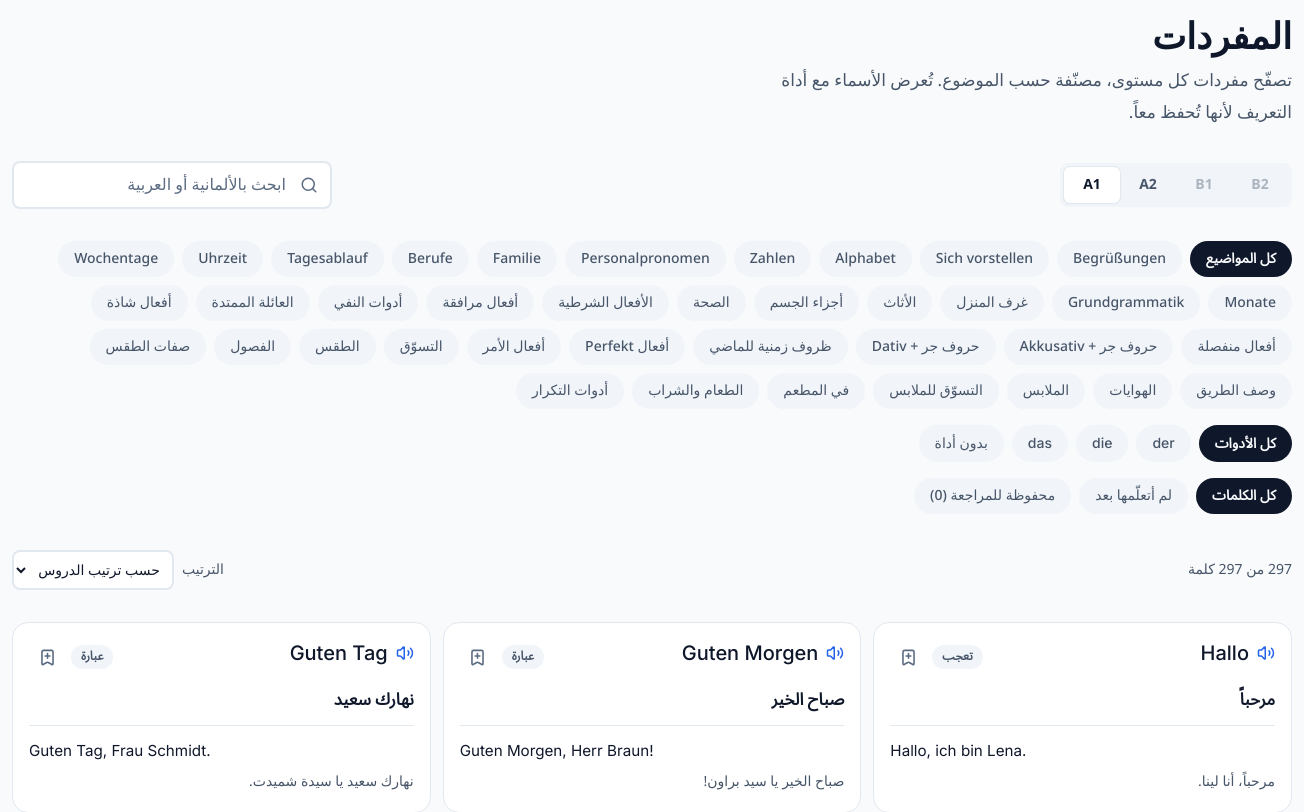
Test case: VocabularyPage › adds a word to spaced review from its card, and lists it under the saved filter
Step 1. Click the button named "أضف إلى المراجعة" → (908, 657), box top-left (890, 639), bottom-right (926, 675)
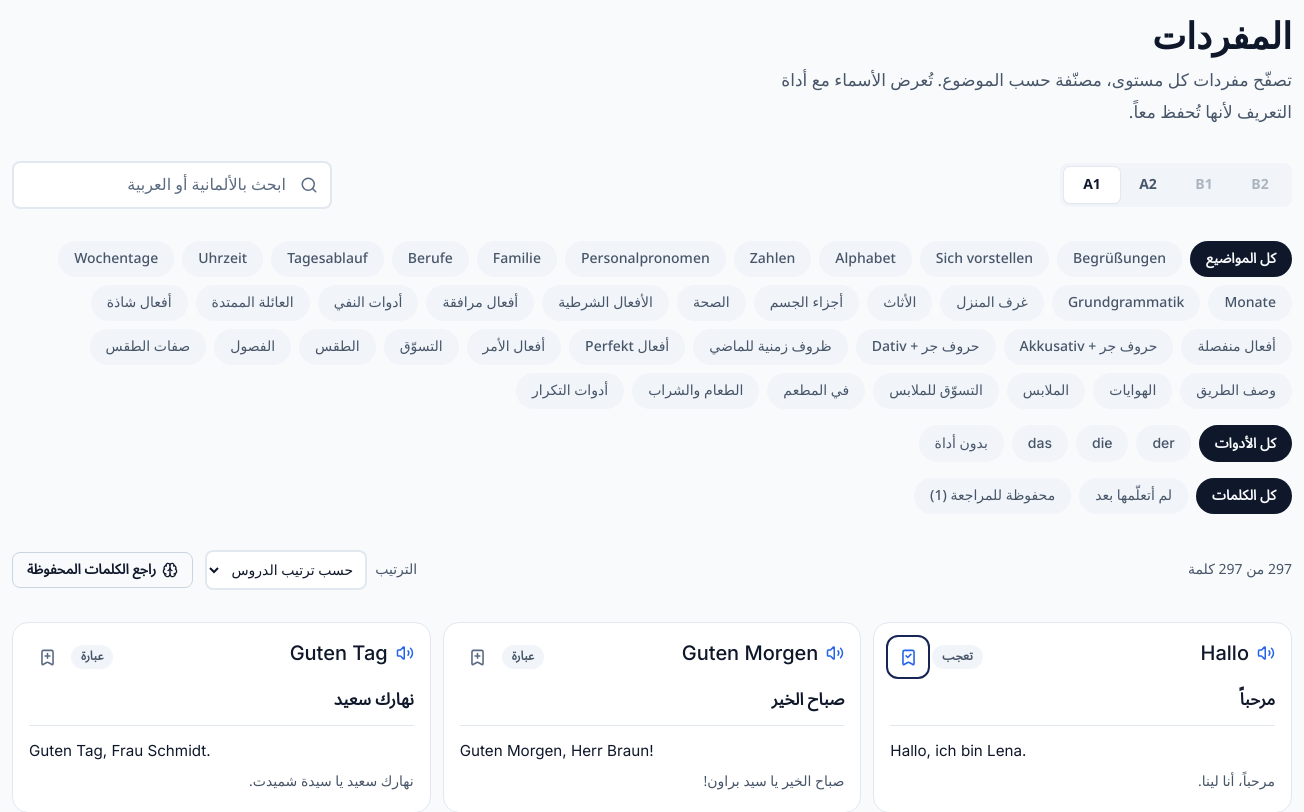
Step 2. Click the button "محفوظة للمراجعة (1)" → (993, 496), box top-left (914, 478), bottom-right (1071, 514)
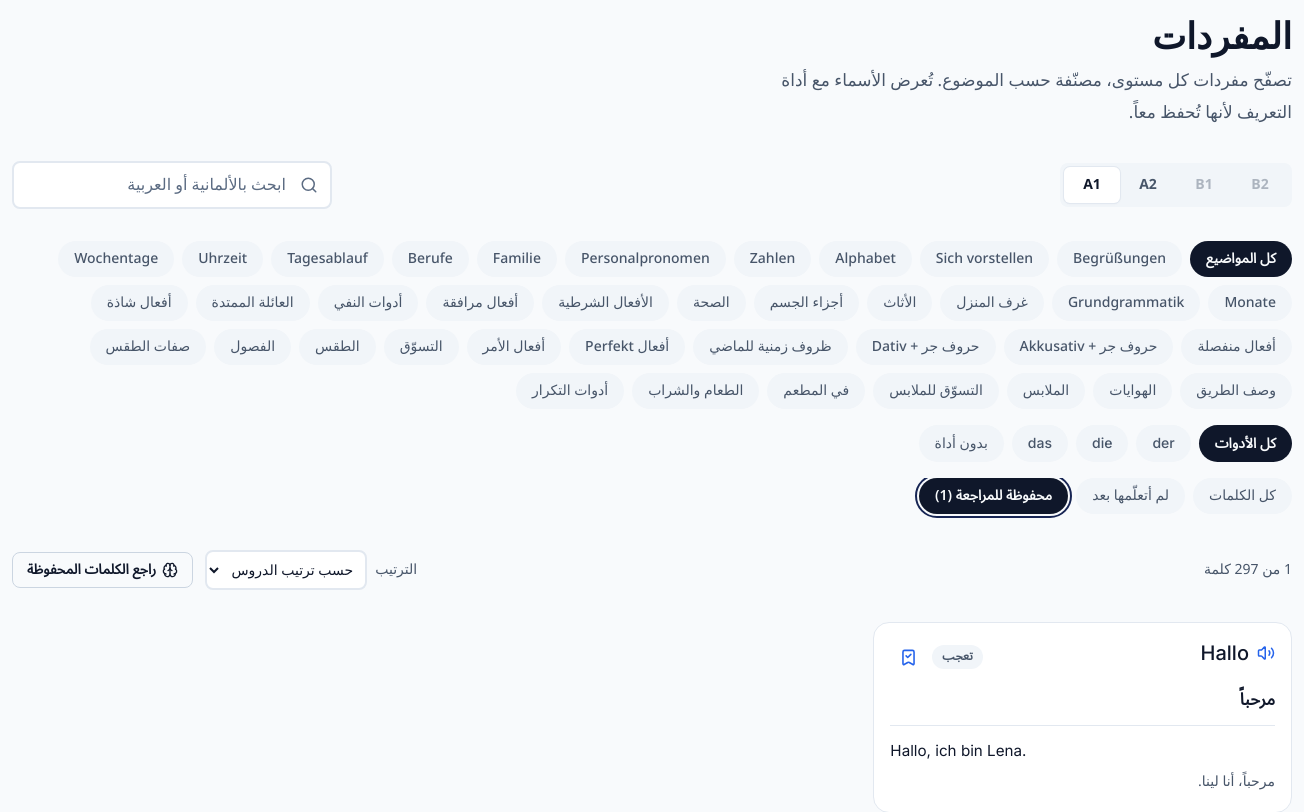
Result: the link "راجع الكلمات المحفوظة" is shown at top-left (12, 552), bottom-right (193, 588)
Result: the message shows "1 من" at top-left (1204, 560), bottom-right (1292, 580)
